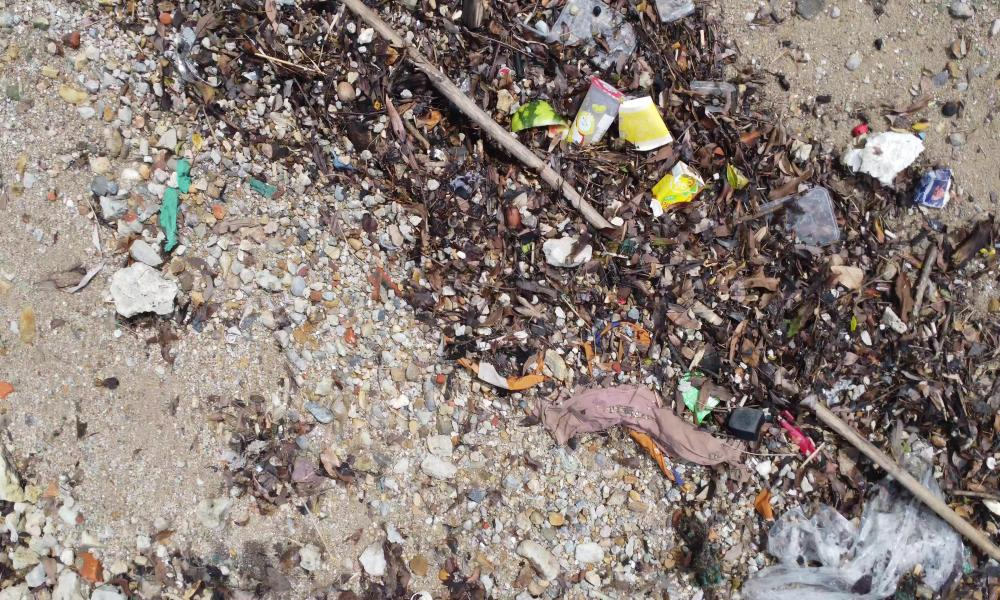carton: (649, 157, 712, 220), (616, 95, 678, 159)
plastic bag: (742, 493, 1000, 600)
plastic container: (572, 65, 620, 160)
